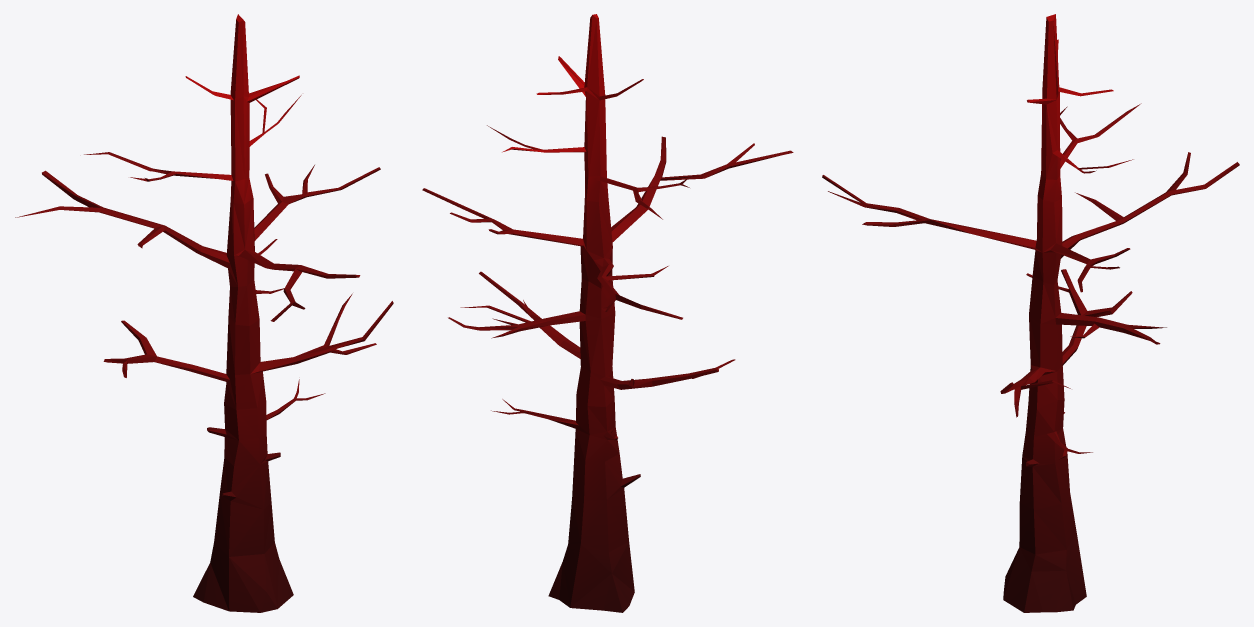
The model's file is BoldTree1.fbx.
The picture shows the model from 3 angles, left to right: view 1: azimuth 30°, elevation 25°; view 2: azimuth 150°, elevation 25°; view 3: azimuth 270°, elevation 25°; orthographic projection.
Visible parts, largest first — view 1: Tree_Base; view 2: Tree_Base; view 3: Tree_Base.
Part boxes in pixels (box(x1,y1,x2,y2)): Tree_Base: box(15, 14, 393, 612); Tree_Base: box(422, 14, 793, 612); Tree_Base: box(822, 14, 1239, 612).
Bounding box in the file's own units: 173 × 307 × 200.
